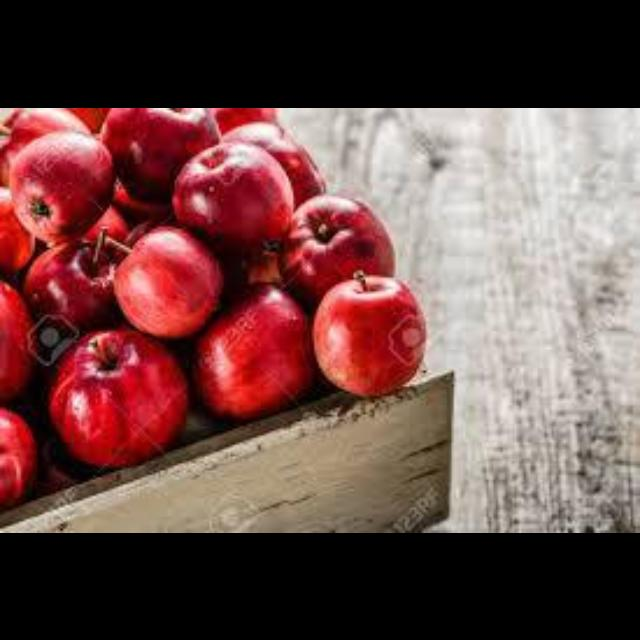apple: (49, 328, 186, 465), (193, 284, 317, 419), (312, 270, 426, 396), (279, 193, 393, 307), (172, 142, 291, 249), (114, 226, 221, 335), (9, 130, 114, 240), (100, 107, 219, 202), (23, 240, 119, 337), (0, 279, 35, 400), (0, 407, 35, 507), (0, 186, 33, 275)
